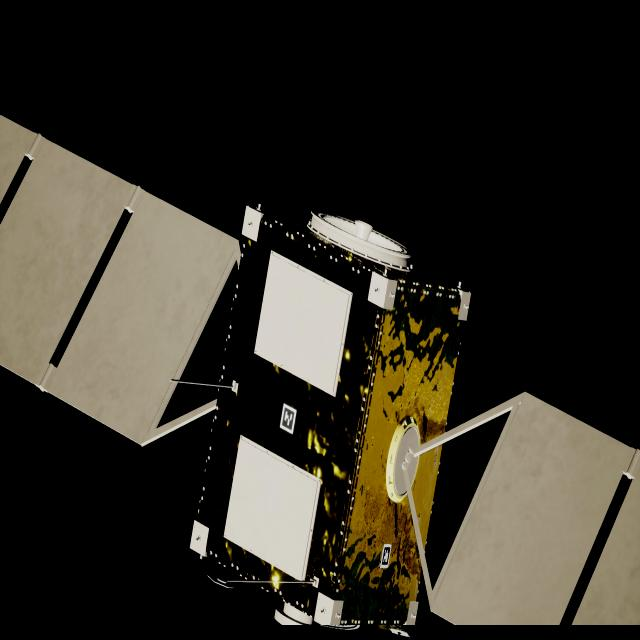satellite: (0, 115, 640, 640)
